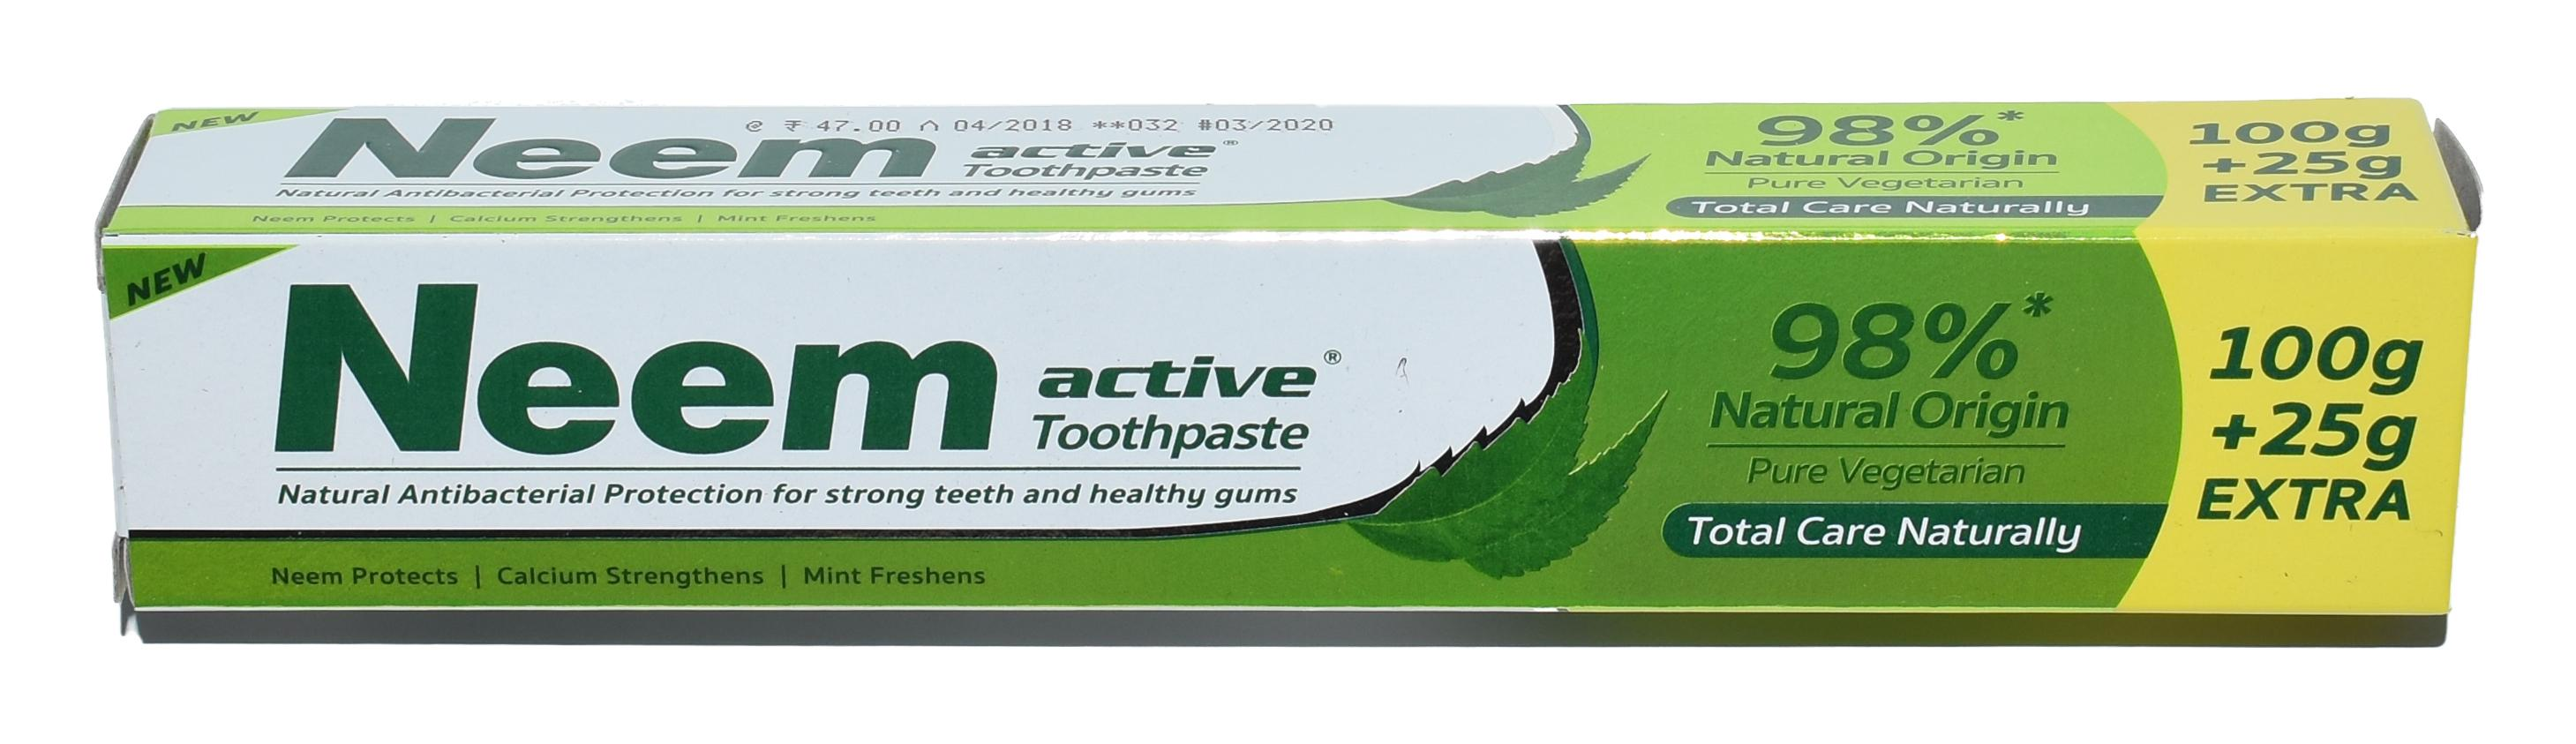toothpaste: (90, 99, 2495, 647)
